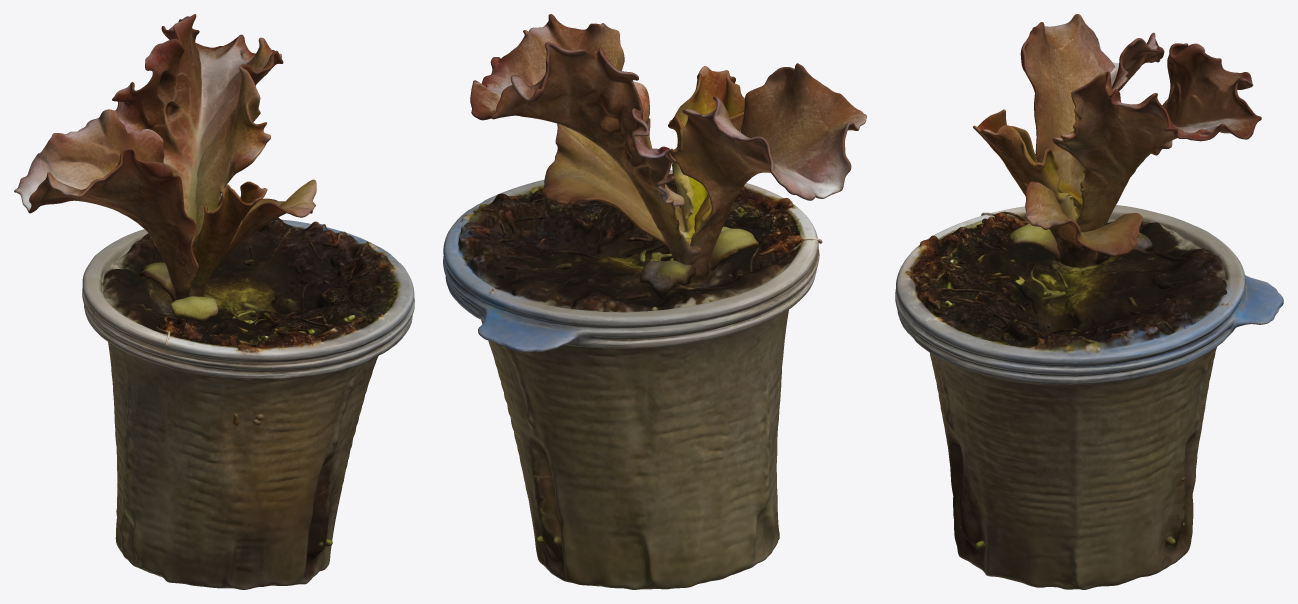
Rendered from orbital_seedling.glb.
3 views of the same model, side by side, from view 1: azimuth 30°, elevation 25°; view 2: azimuth 150°, elevation 25°; view 3: azimuth 270°, elevation 25° (orthographic). The views are drawn at different scales.
Parts seen in each view (by area): view 1: tripo_node_4c5b1e9f-89fd-40a0-a6de-e66f84f90110; view 2: tripo_node_4c5b1e9f-89fd-40a0-a6de-e66f84f90110; view 3: tripo_node_4c5b1e9f-89fd-40a0-a6de-e66f84f90110.
Boxes of the visible parts, box(x1,y1,x2,y2) form: tripo_node_4c5b1e9f-89fd-40a0-a6de-e66f84f90110: box(14, 14, 414, 589); tripo_node_4c5b1e9f-89fd-40a0-a6de-e66f84f90110: box(443, 14, 866, 589); tripo_node_4c5b1e9f-89fd-40a0-a6de-e66f84f90110: box(895, 14, 1283, 589).
Size of the model in its own units: 0.755 by 1 by 0.6904.
1 material, 1 textured.
